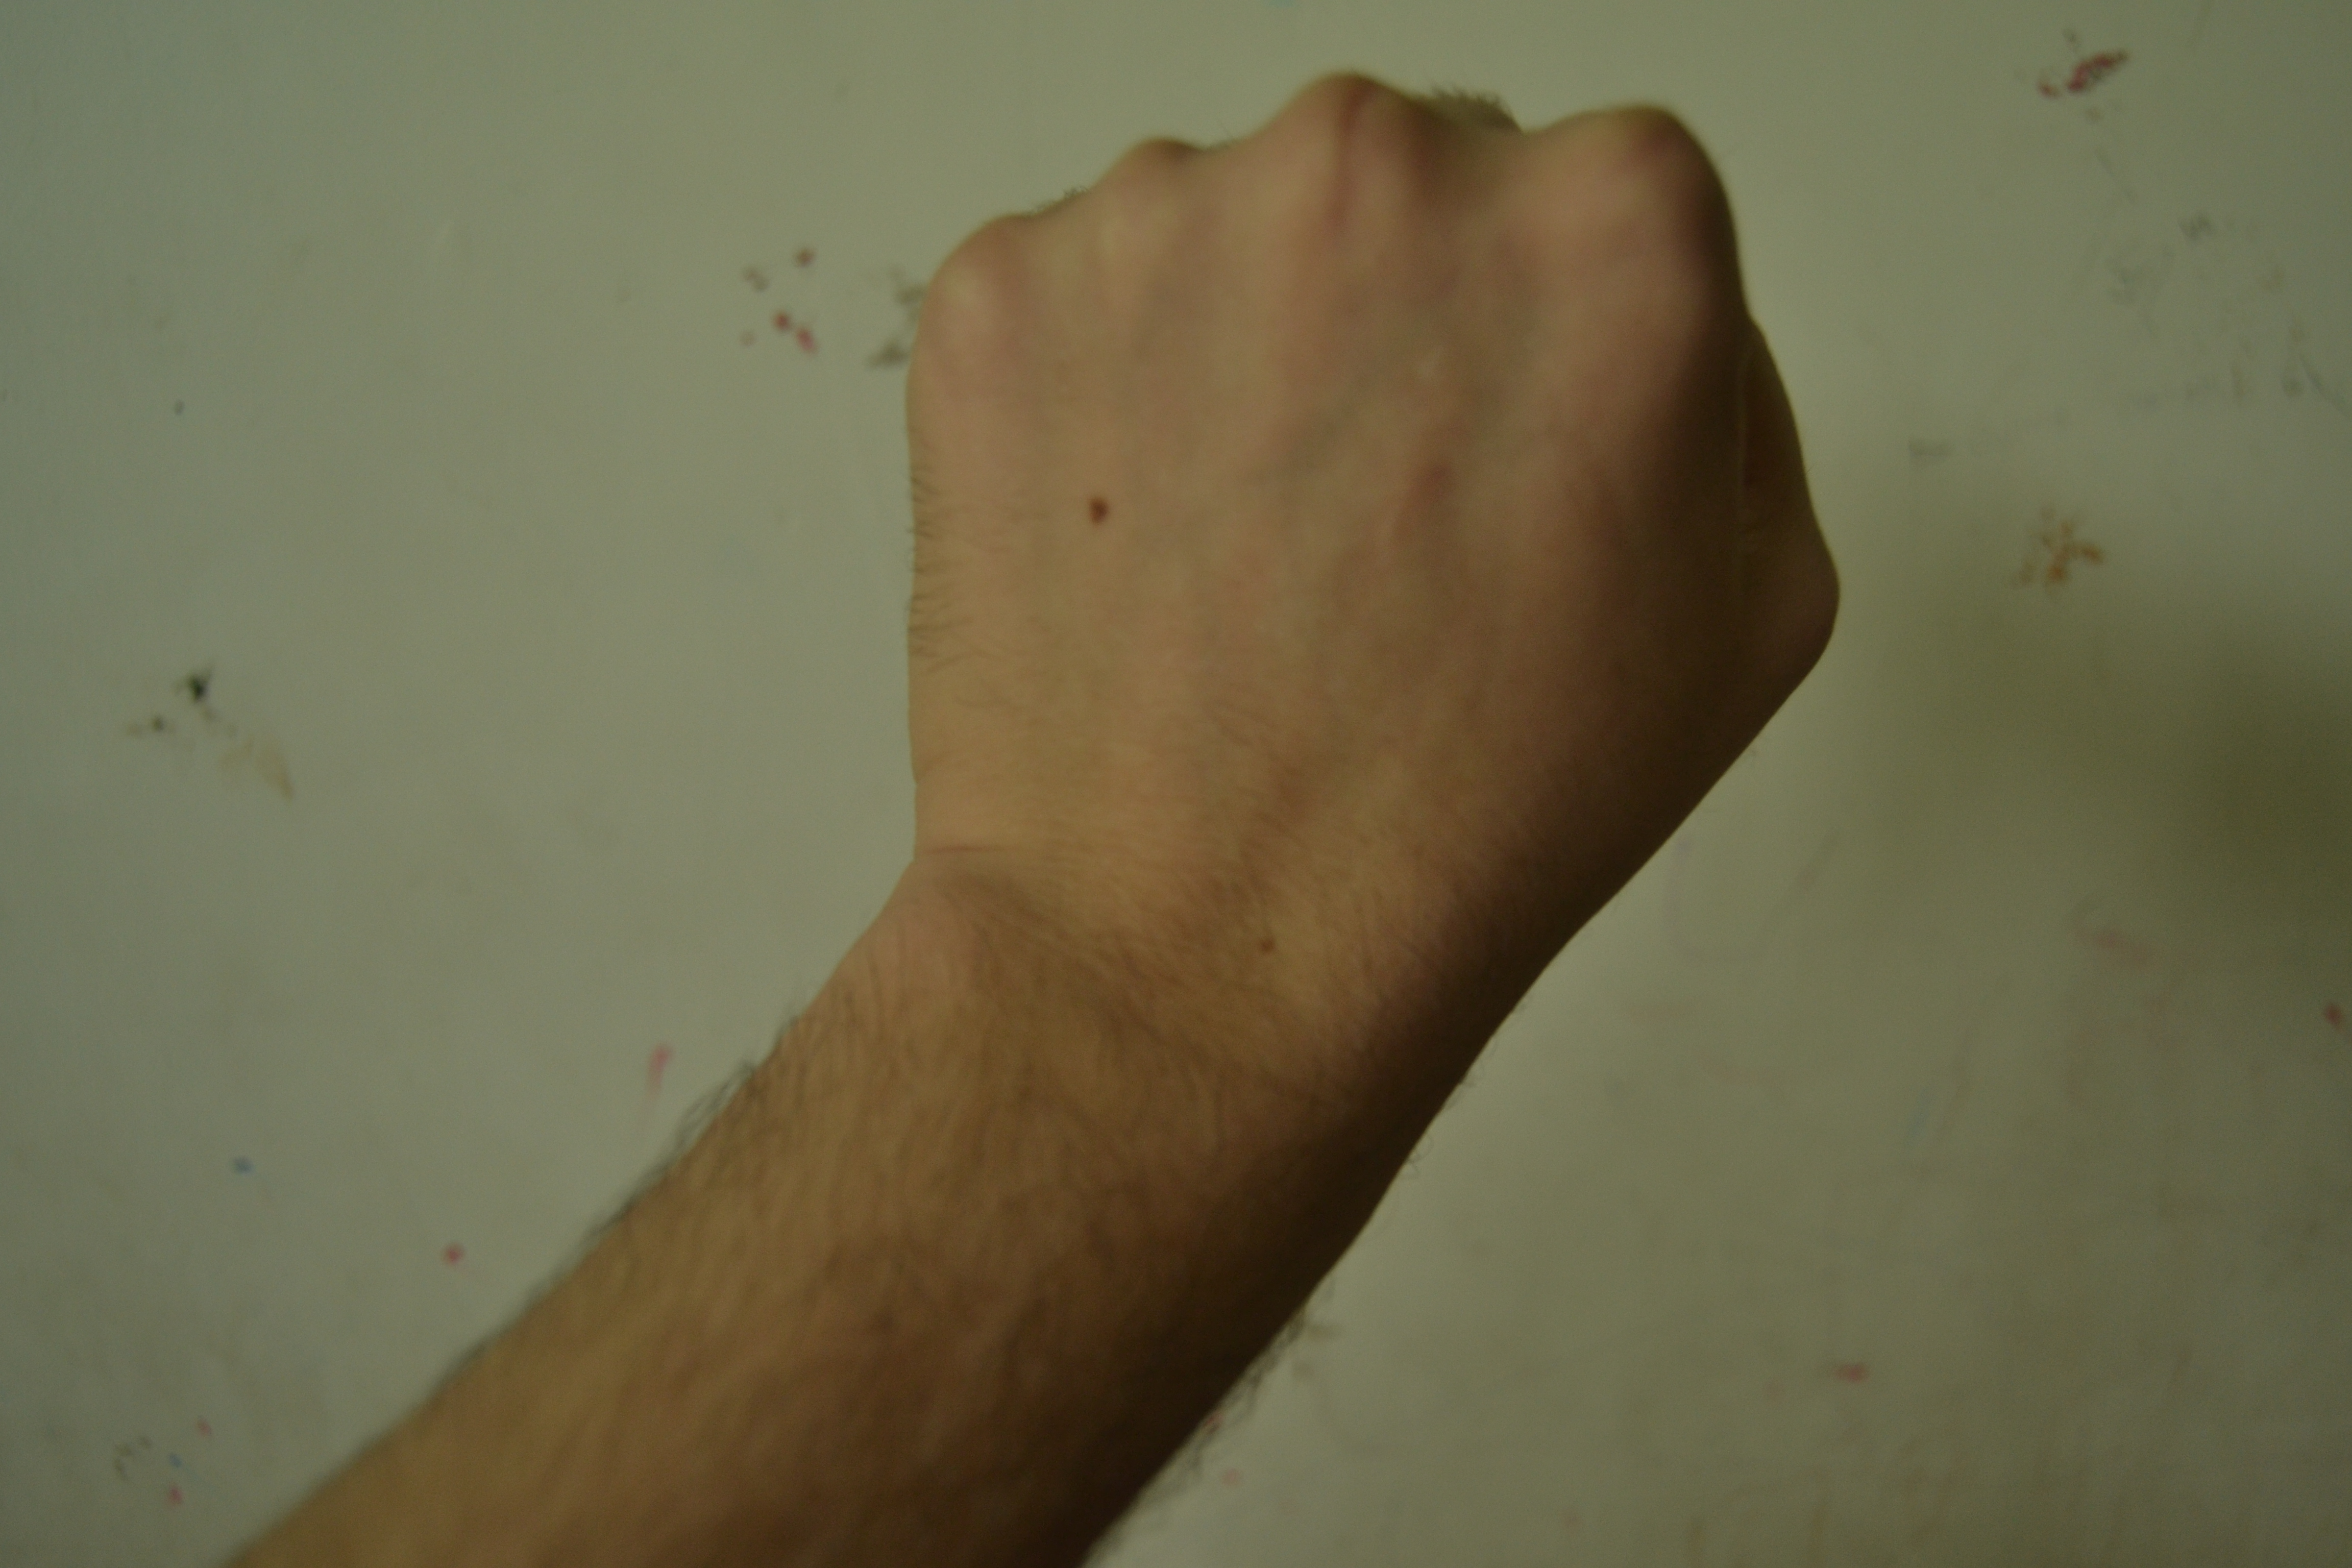click: (810, 33, 1883, 1398)
